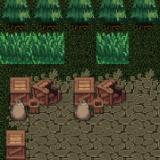Hide: (0, 124, 36, 160)
Obstacle: (65, 64, 131, 129), (0, 64, 65, 129), (0, 0, 33, 32), (64, 0, 97, 32), (33, 0, 64, 32), (97, 0, 128, 32), (129, 0, 160, 32)
Slow: (0, 32, 65, 64), (97, 32, 128, 64)
